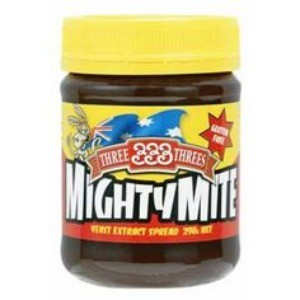yeast spread_brain food: (57, 87, 238, 262)
